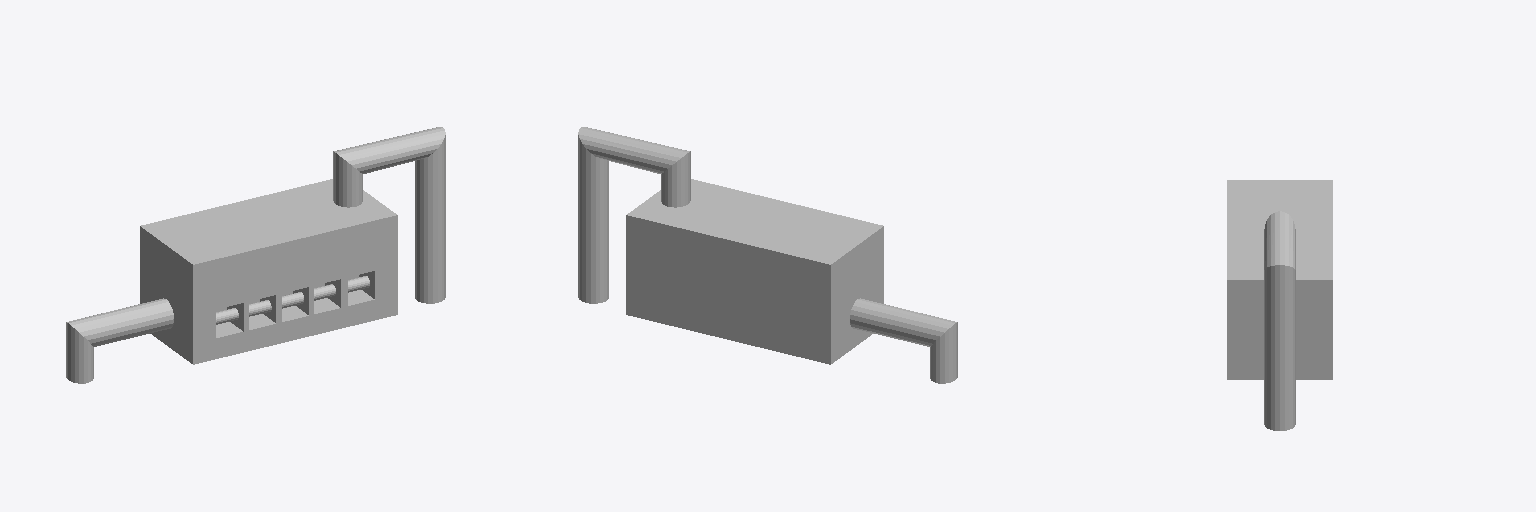
Rendered from MachineBLOCKOUT.obj.
3 renders of one model, left to right at view 1: azimuth 30°, elevation 25°; view 2: azimuth 150°, elevation 25°; view 3: azimuth 270°, elevation 25°, orthographic.
Parts seen in each view (by area): view 1: MachineBLOCKOUT; view 2: MachineBLOCKOUT; view 3: MachineBLOCKOUT.
Part boxes in pixels (x1,y1,x2,y2): MachineBLOCKOUT: (66, 127, 445, 383); MachineBLOCKOUT: (578, 127, 957, 383); MachineBLOCKOUT: (1227, 180, 1332, 430).
Size of the model in its own units: 19.5 by 8.31 by 4.8.